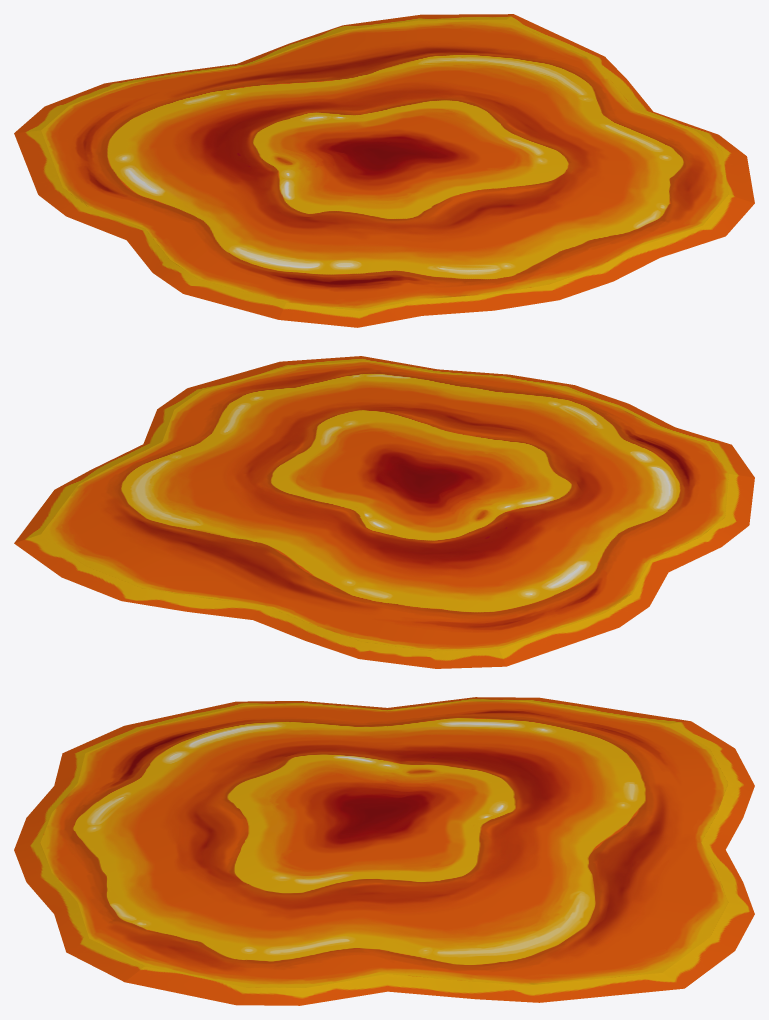
Rendered from Maguma.fbx.
3 views of the same model, one above another, from view 1: azimuth 30°, elevation 25°; view 2: azimuth 150°, elevation 25°; view 3: azimuth 270°, elevation 25° (orthographic). The views are drawn at different scales.
Visible parts, largest first — view 1: mgaguma; view 2: mgaguma; view 3: mgaguma.
Boxes of the visible parts, x1,y1,x2,y2 form: mgaguma: (14,14,754,327); mgaguma: (14,356,754,668); mgaguma: (14,697,754,1005).
Size of the model in its own units: 58.69 by 2.87 by 59.54.
1 material, 1 textured.
